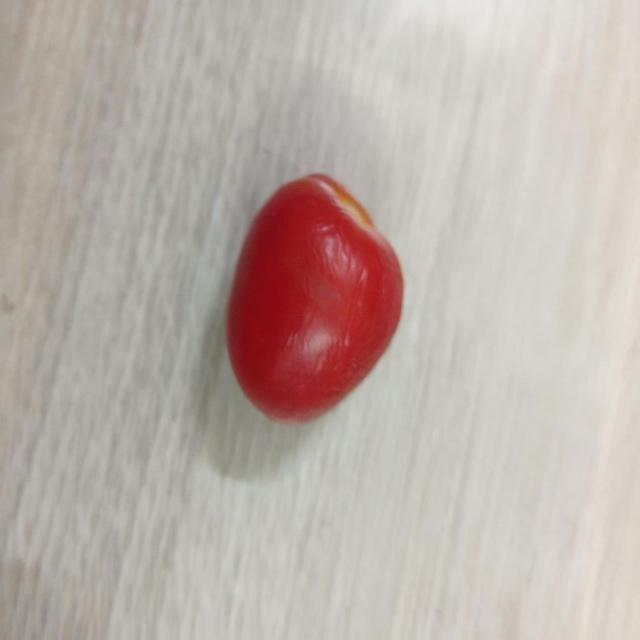overripe: (226, 168, 405, 426)
